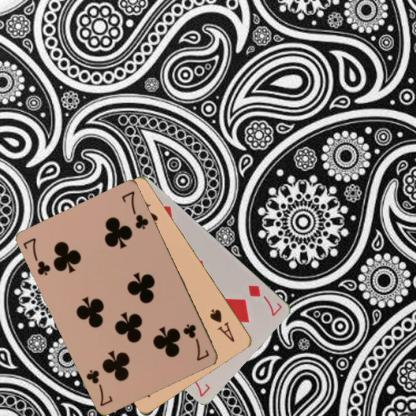7c: (20, 235, 52, 277), (180, 322, 212, 362)
7d: (246, 282, 284, 318)
As: (208, 306, 236, 344)
